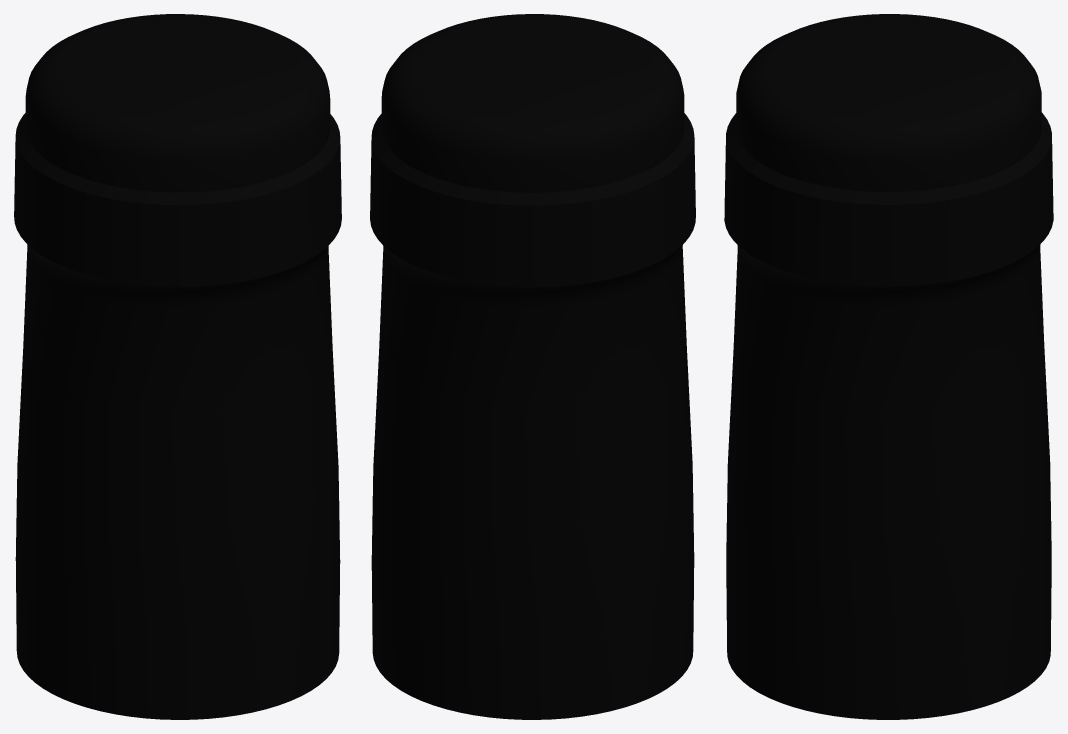
Rendered from cap.glb.
3 renders of one model, left to right at view 1: azimuth 30°, elevation 25°; view 2: azimuth 150°, elevation 25°; view 3: azimuth 270°, elevation 25°, orthographic.
Visible parts, largest first — view 1: Wine_Rose_By_Ott_Domaines_Ott.001; view 2: Wine_Rose_By_Ott_Domaines_Ott.001; view 3: Wine_Rose_By_Ott_Domaines_Ott.001.
Boxes of the visible parts, x1=… form: Wine_Rose_By_Ott_Domaines_Ott.001: x1=14, y1=14, x2=341, y2=719; Wine_Rose_By_Ott_Domaines_Ott.001: x1=370, y1=14, x2=695, y2=719; Wine_Rose_By_Ott_Domaines_Ott.001: x1=724, y1=14, x2=1053, y2=719.
Size of the model in its own units: 0.269 by 0.5315 by 0.2711.
1 material, 1 textured.
